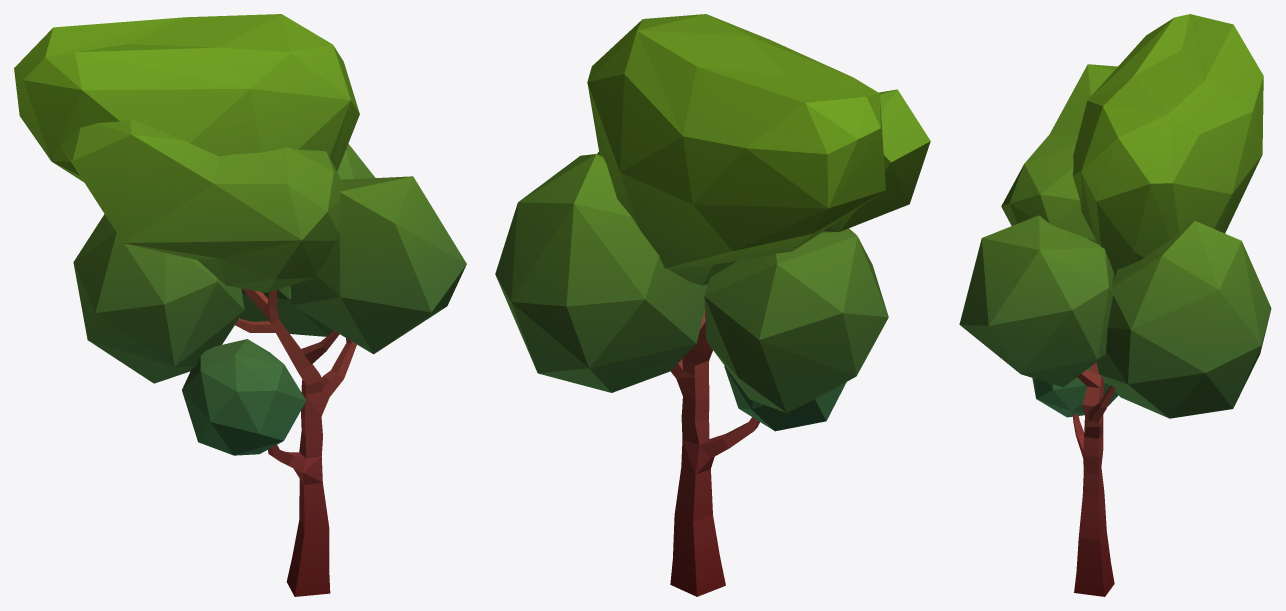
File: Gradient_Tree_Windswept_green.glb
The picture shows the model from 3 angles, left to right: view 1: azimuth 30°, elevation 25°; view 2: azimuth 150°, elevation 25°; view 3: azimuth 270°, elevation 25°; orthographic projection. The views are drawn at different scales.
Parts seen in each view (by area): view 1: Windswept green g; view 2: Windswept green g; view 3: Windswept green g.
Part boxes in pixels (left/top/right/bottom): Windswept green g: left=14, top=14, right=466, bottom=596; Windswept green g: left=495, top=14, right=930, bottom=596; Windswept green g: left=959, top=14, right=1271, bottom=596.
Size of the model in its own units: 10.34 by 15.38 by 8.9.
Materials: 1 (1 with a texture image).
